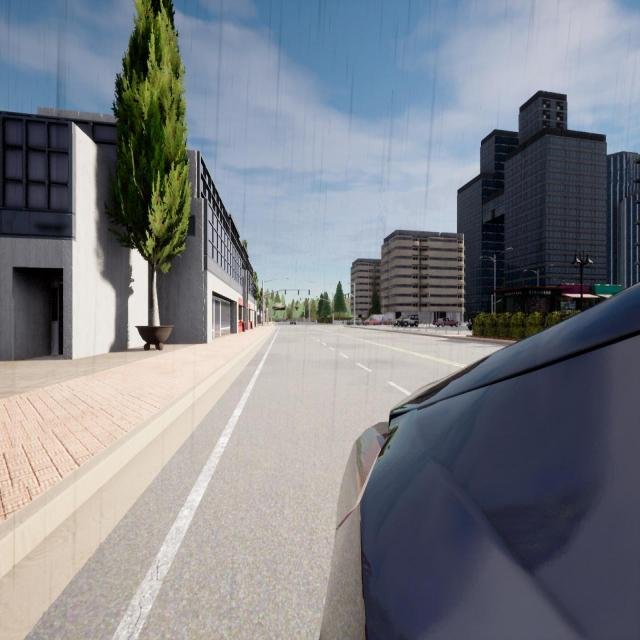Vehicle: (321, 285, 639, 638), (395, 315, 418, 326), (436, 318, 458, 327), (369, 315, 384, 325), (347, 318, 362, 325), (468, 313, 473, 330), (363, 320, 378, 325), (384, 320, 392, 325), (290, 319, 296, 325)
traffic_light: (308, 290, 310, 295), (308, 298, 310, 301), (332, 310, 334, 313), (285, 290, 286, 295), (298, 290, 299, 295), (345, 295, 346, 299), (300, 298, 302, 300), (317, 298, 319, 300), (348, 294, 349, 297)
